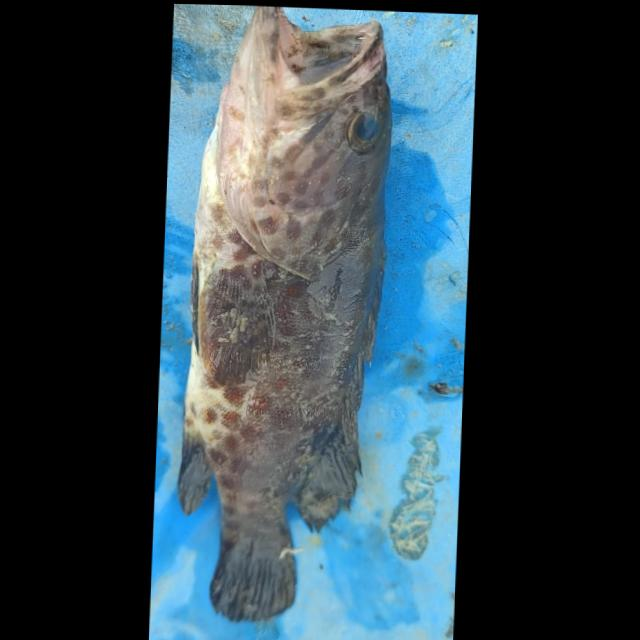Groupers: (167, 4, 397, 634)
